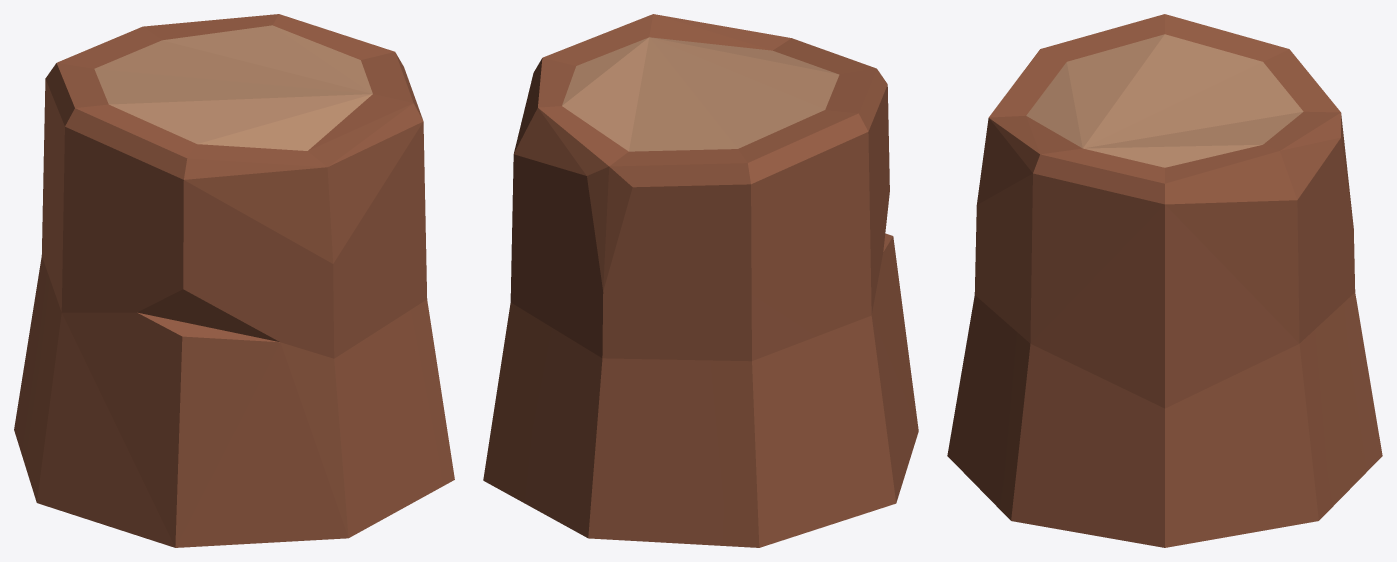
The model's file is TreeTrunk_1.fbx.
3 renders of one model, left to right at view 1: azimuth 30°, elevation 25°; view 2: azimuth 150°, elevation 25°; view 3: azimuth 270°, elevation 25°, orthographic. The views are drawn at different scales.
Visible parts, largest first — view 1: TreeTrunk_1; view 2: TreeTrunk_1; view 3: TreeTrunk_1.
Part boxes in pixels (box(x1,y1,x2,y2)): TreeTrunk_1: box(14, 14, 454, 547); TreeTrunk_1: box(483, 14, 918, 547); TreeTrunk_1: box(947, 14, 1382, 547).
Bounding box in the file's own units: 0.8299 × 0.7736 × 0.8299.
